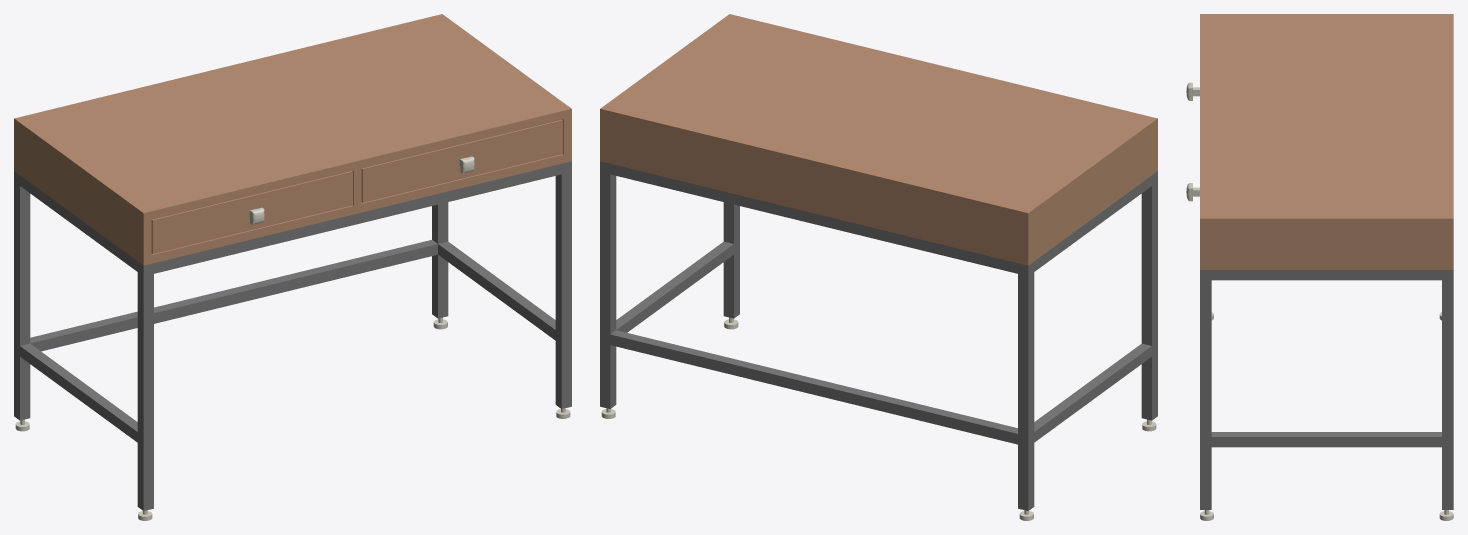
The model's file is 497_デスク.glb.
3 views of the same model, side by side, from view 1: azimuth 30°, elevation 25°; view 2: azimuth 150°, elevation 25°; view 3: azimuth 270°, elevation 25° (orthographic). The views are drawn at different scales.
Parts seen in each view (by area): view 1: Body, hikidashi_hidari, hikidashi_migi; view 2: Body; view 3: Body.
Part boxes in pixels (left/top/right/bottom): Body: left=14, top=14, right=571, bottom=520; hikidashi_hidari: left=151, top=171, right=352, bottom=253; hikidashi_migi: left=361, top=120, right=562, bottom=202; Body: left=600, top=14, right=1157, bottom=520; Body: left=1200, top=14, right=1453, bottom=520.
Bounding box in the file's own units: 1.06 × 0.723 × 0.5795.
